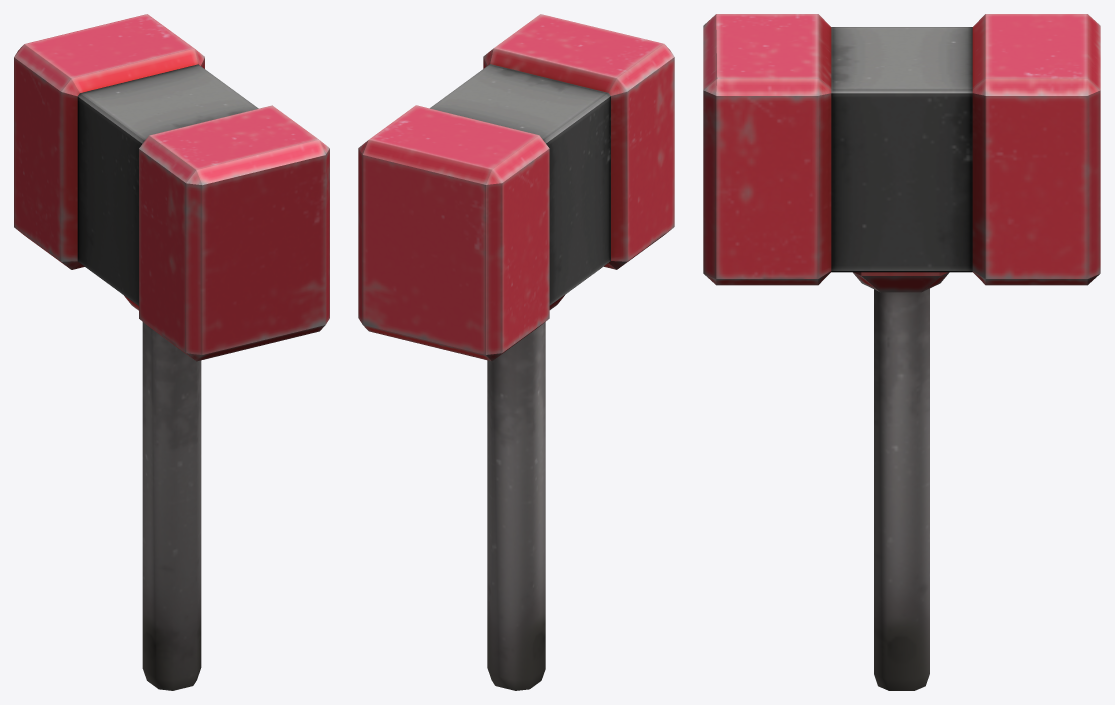
The model's file is hammer_pendulum_trap.fbx.
3 renders of one model, left to right at view 1: azimuth 30°, elevation 25°; view 2: azimuth 150°, elevation 25°; view 3: azimuth 270°, elevation 25°, orthographic. The views are drawn at different scales.
Parts seen in each view (by area): view 1: Striker.003; view 2: Striker.003; view 3: Striker.003.
Part boxes in pixels (<box>): Striker.003: <box>14,14,329,690</box>; Striker.003: <box>358,14,674,690</box>; Striker.003: <box>703,14,1100,690</box>.
Size of the model in its own units: 57.79 by 226 by 128.
